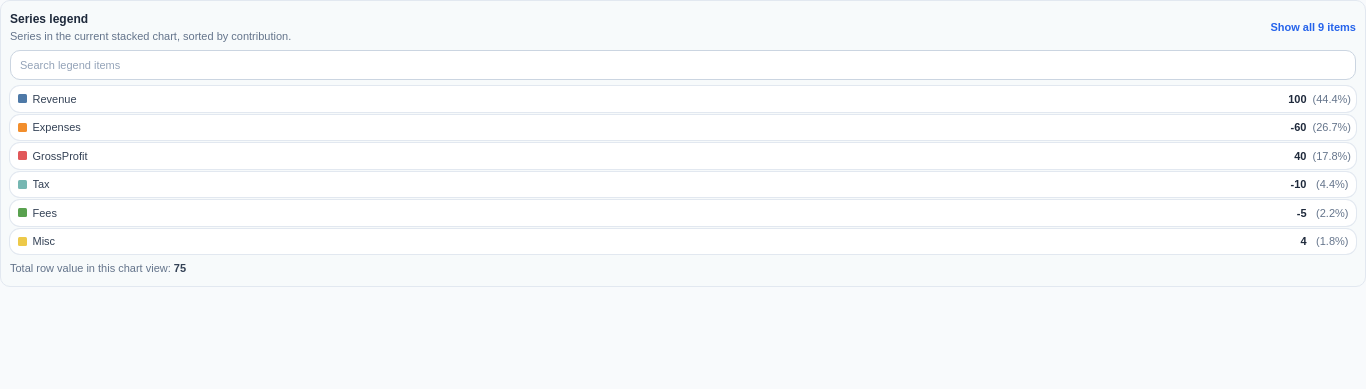
Test: PivotStackedLegend › sorts visible items by contribution and can expand collapsed legend items
Expected: the text "(44.4%)" is shown 6 times, [1312,90,1348,107]; [1312,119,1348,136]; [1312,148,1348,164]; [1312,176,1348,192]; [1312,204,1348,221]; [1312,233,1348,250]
Expected: the text "Revenue" is shown, [32,91,76,107]
Click the button "Show all 9 items". click: (1313,27)
box: [1270,19,1356,35]
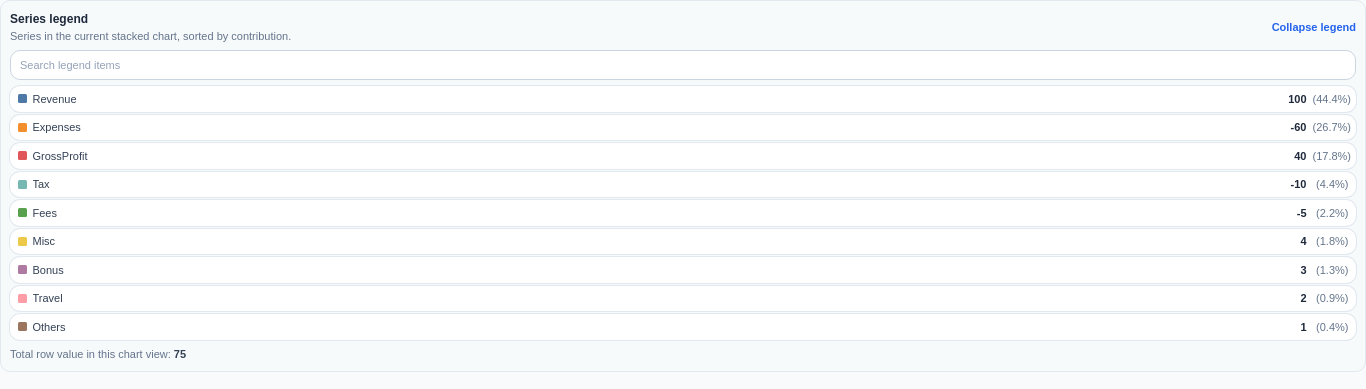
Result: the text "Travel" is shown at [32,290,63,306]
Result: the text "Others" is shown at [32,319,66,335]
Result: the button "Collapse legend" is expanded at [1272,19,1356,35]
